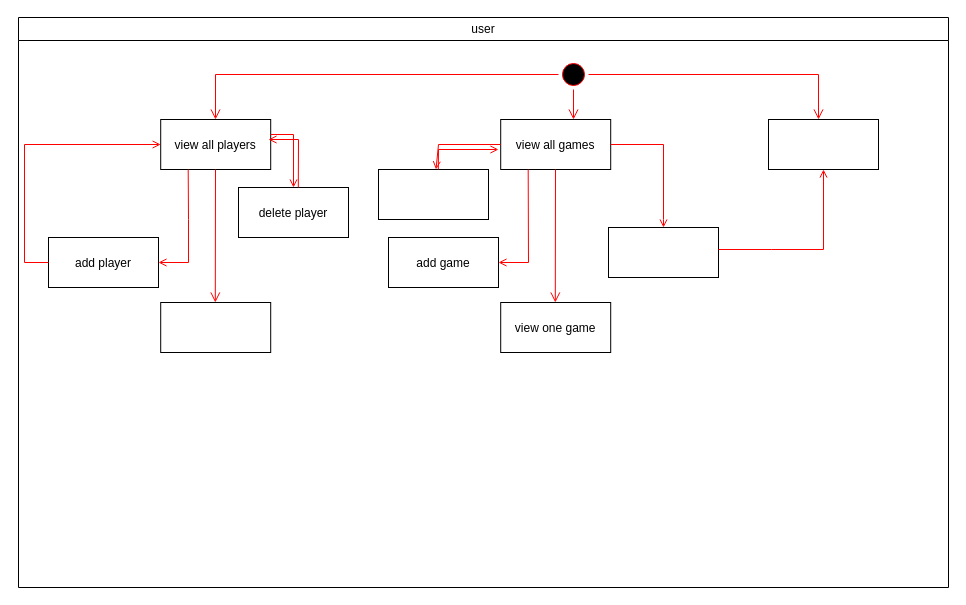
The diagram is 966 pixels wide and 605 high, and some of its shapes have lost their labels. Here are the shapes that lost their labels. From the top down, the centre of each, then its label:
(823,144): view all results
(433,194): delete game
(663,252): add results
(215,327): view one player
